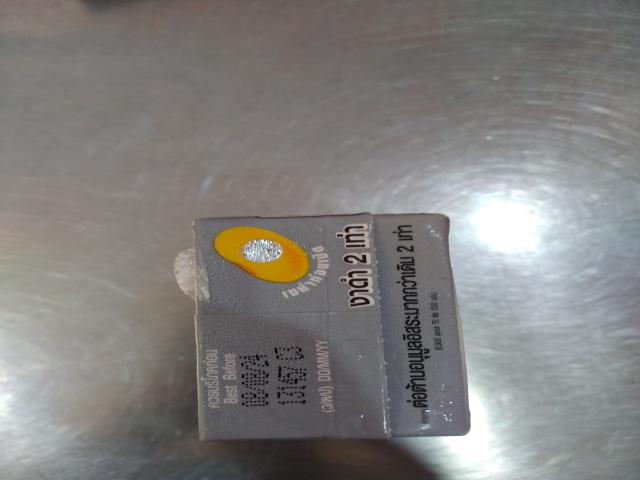drink_box: (152, 190, 505, 469)
